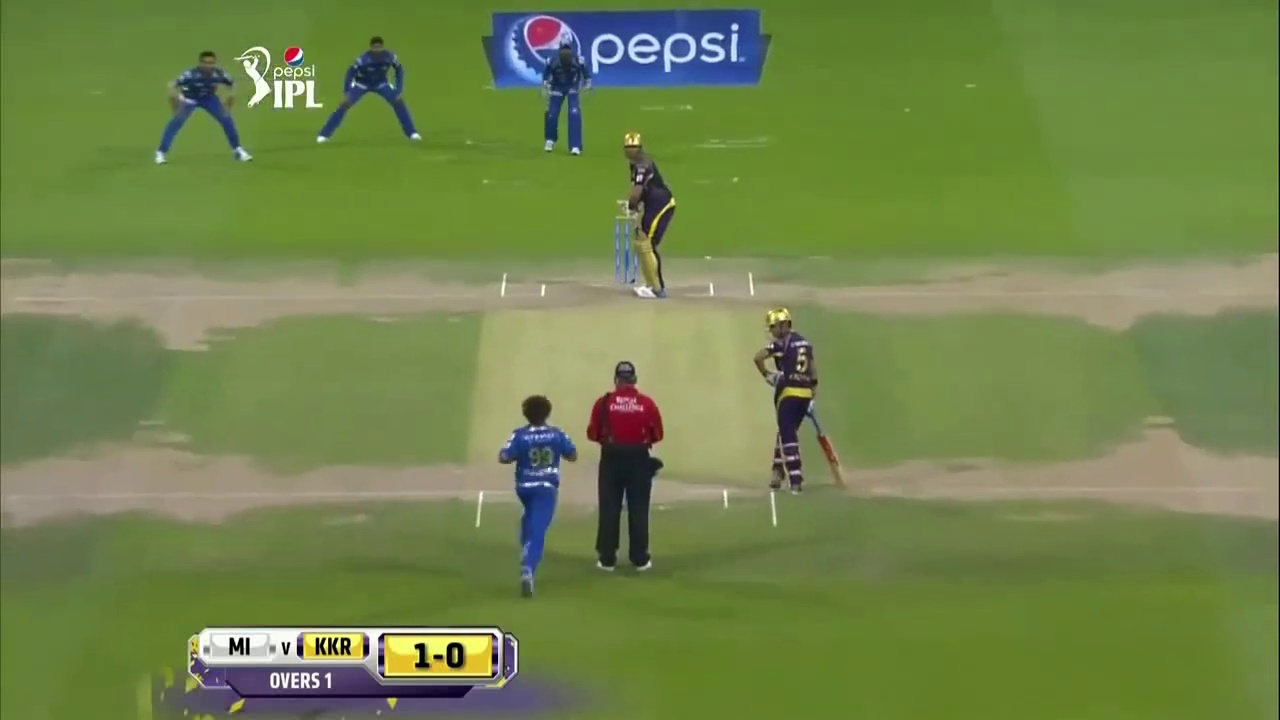bat: (808, 412, 854, 491)
pitch: (457, 259, 792, 529)
player: (481, 383, 582, 604)
scoreboard: (188, 630, 518, 700)
stumps: (614, 216, 631, 281)
